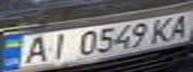0: (75, 28, 100, 56)
4: (115, 22, 136, 52)
5: (97, 25, 118, 55)
9: (127, 20, 154, 50)
A: (12, 34, 54, 65), (163, 12, 193, 41)
I: (39, 32, 75, 62)
K: (148, 16, 178, 44)
